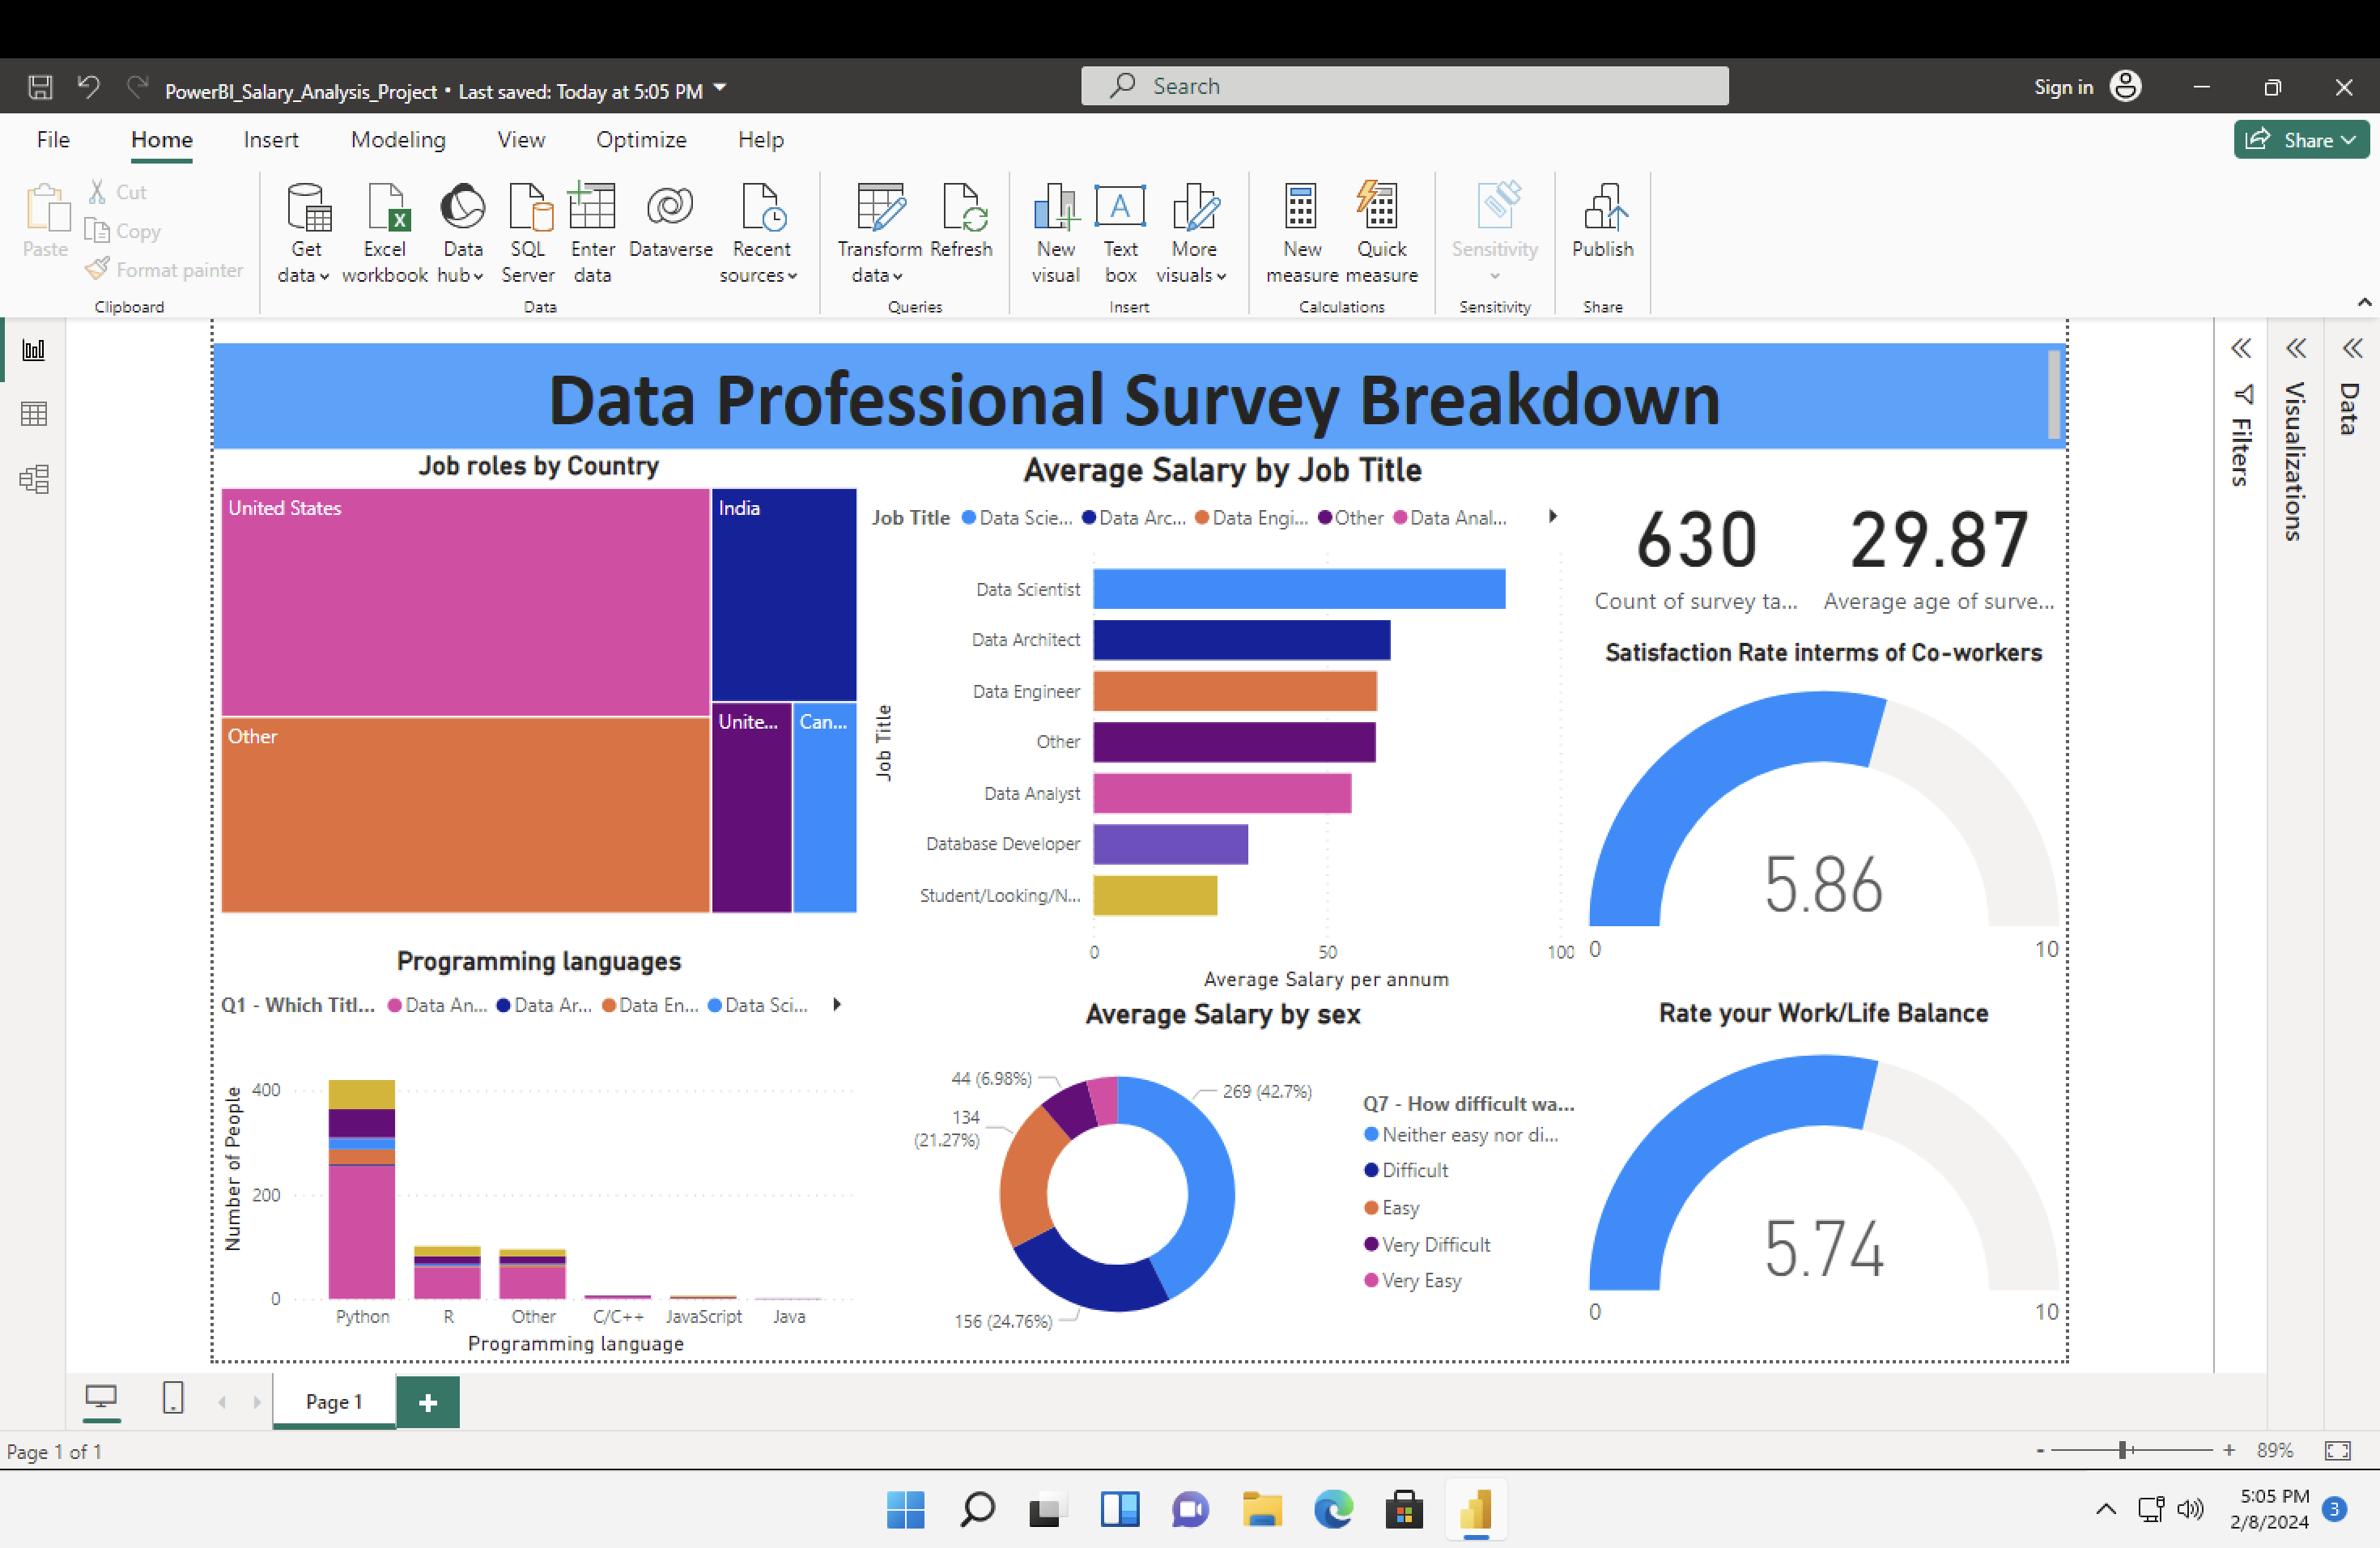

Layout of this report page (visuals, bound fields, positions):
{"tool":"powerbi","page":{"name":"Page 1","canvas":[1280,720],"ordinal":0},"visuals":[{"type":"textbox","box":[0,17.8,1280,73.3],"z":0},{"type":"card","fields":{"Values":["Count(Data Professional Survey.Unique ID)"]},"box":[945.1,91.1,158.5,130.8],"z":1000},{"type":"card","fields":{"Values":["Avg(Data Professional Survey.Q10 - Current Age)"]},"box":[1103.7,91.1,176.3,130.8],"z":2000},{"type":"barChart","title":"Average Salary by Job Title","fields":{"Category":["Data Professional Survey.Q1 - Which Title Best Fits your Current Role?.1"],"Y":["Avg(Data Professional Survey.Average Salary)"],"Series":["Data Professional Survey.Q1 - Which Title Best Fits your Current Role?.1"]},"box":[449.8,91.1,495.4,378.5],"z":3000},{"type":"columnChart","title":"Programming languages","fields":{"Category":["Data Professional Survey.Q5 - Favorite Programming Language.1.1"],"Y":["CountNonNull(Data Professional Survey.Unique ID)"],"Series":["Data Professional Survey.Q1 - Which Title Best Fits your Current Role?.1"]},"box":[0,433.9,449.8,287.3],"z":3001},{"type":"treemap","title":"Job roles by Country","fields":{"Group":["Data Professional Survey.Q11 - Which Country do you live in?.1"],"Values":["CountNonNull(Data Professional Survey.Q11 - Which Country do you live in?.1)"]},"box":[0,91.1,449.8,325],"z":3002},{"type":"gauge","title":"Satisfaction Rate interms of Co-workers","fields":{"Y":["Avg(Data Professional Survey.Q6 - How Happy are you in your Current Position with the following? (Coworkers))"],"MinValue":["Min(Data Professional Survey.Q6 - How Happy are you in your Current Position with the following? (Coworkers))"],"MaxValue":["Max(Data Professional Survey.Q6 - How Happy are you in your Current Position with the following? (Coworkers))"]},"box":[945.1,221.9,334.9,247.7],"z":3003},{"type":"gauge","title":"Rate your Work/Life Balance","fields":{"Y":["Avg(Data Professional Survey.Q6 - How Happy are you in your Current Position with the following? (Work/Life Balance))"],"MinValue":["Min(Data Professional Survey.Q6 - How Happy are you in your Current Position with the following? (Work/Life Balance))"],"MaxValue":["Max(Data Professional Survey.Q6 - How Happy are you in your Current Position with the following? (Work/Life Balance))"]},"box":[945.1,469.6,334.9,251.6],"z":3004},{"type":"donutChart","title":"Average Salary by sex","fields":{"Category":["Data Professional Survey.Q7 - How difficult was it for you to break into Data?"],"Y":["CountNonNull(Data Professional Survey.Q7 - How difficult was it for you to break into Data?)"]},"box":[449.8,469.6,495.4,249.7],"z":3005}]}

Visuals, with their boxes on the page's 1280x720 design canvas (x1, y1, x2, y2). These are canvas units, not pixel positions in the 2380x1548 screenshot, which may show the page scaled, cropped or inside an application window:
textbox: (left=0, top=18, right=1280, bottom=91)
card - Count(Data Professional Survey.Unique ID): (left=945, top=91, right=1104, bottom=222)
card - Avg(Data Professional Survey.Q10 - Current Age): (left=1104, top=91, right=1280, bottom=222)
"Average Salary by Job Title" barChart: (left=450, top=91, right=945, bottom=470)
"Programming languages" columnChart: (left=0, top=434, right=450, bottom=721)
"Job roles by Country" treemap: (left=0, top=91, right=450, bottom=416)
"Satisfaction Rate interms of Co-workers" gauge: (left=945, top=222, right=1280, bottom=470)
"Rate your Work/Life Balance" gauge: (left=945, top=470, right=1280, bottom=721)
"Average Salary by sex" donutChart: (left=450, top=470, right=945, bottom=719)
